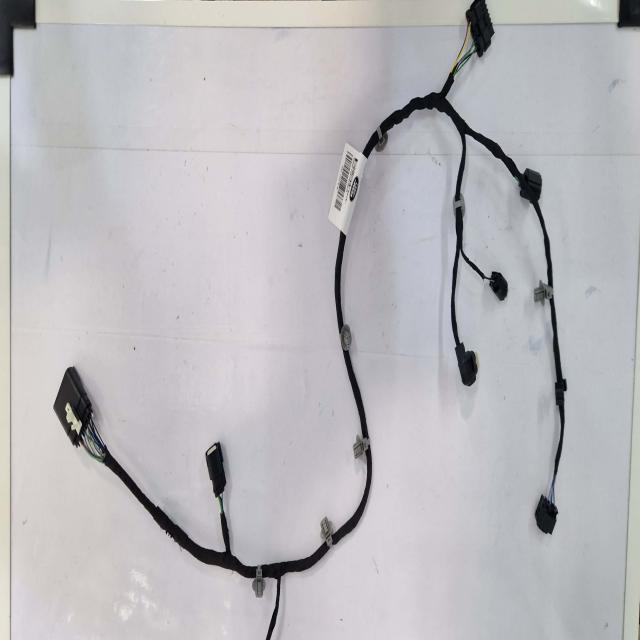Clip: (534, 280, 554, 305), (252, 565, 265, 598), (354, 435, 370, 458), (375, 125, 388, 153), (555, 379, 568, 407), (321, 516, 332, 547), (340, 323, 351, 351), (452, 193, 465, 216)
Connector: (54, 366, 92, 445), (466, 0, 494, 56), (206, 443, 226, 496), (455, 343, 478, 387), (535, 496, 558, 534), (520, 168, 542, 203), (490, 272, 508, 300)
Gape: (83, 418, 113, 470), (445, 38, 478, 70), (216, 484, 228, 514)
Info: (329, 142, 366, 234)
MHEV_N11_Cable: (349, 33, 566, 534), (101, 445, 251, 577), (324, 229, 372, 547), (258, 547, 328, 638)
